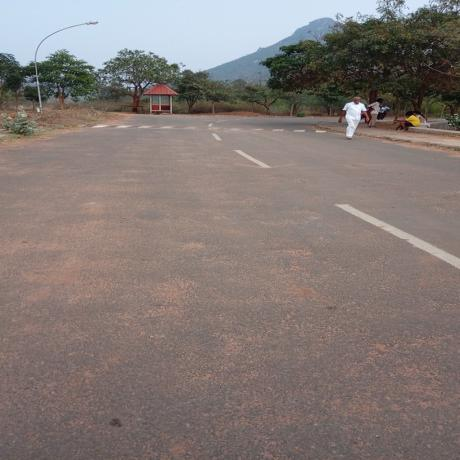Speed Bump: (81, 123, 329, 133)
